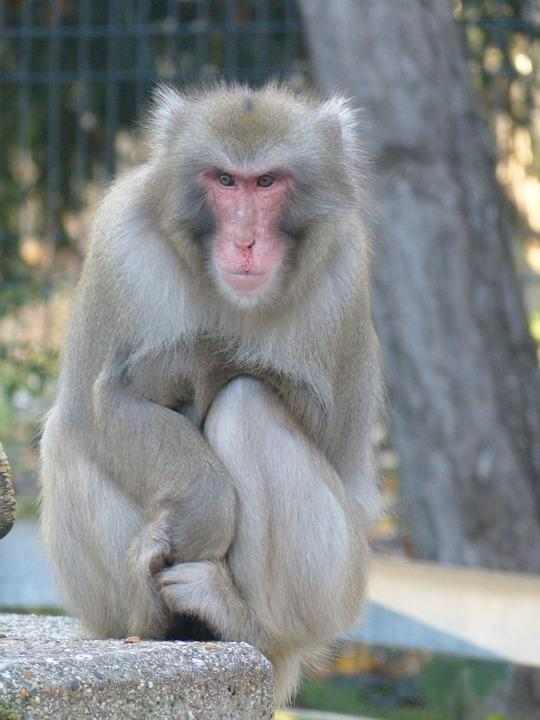monkey: (40, 82, 387, 711)
